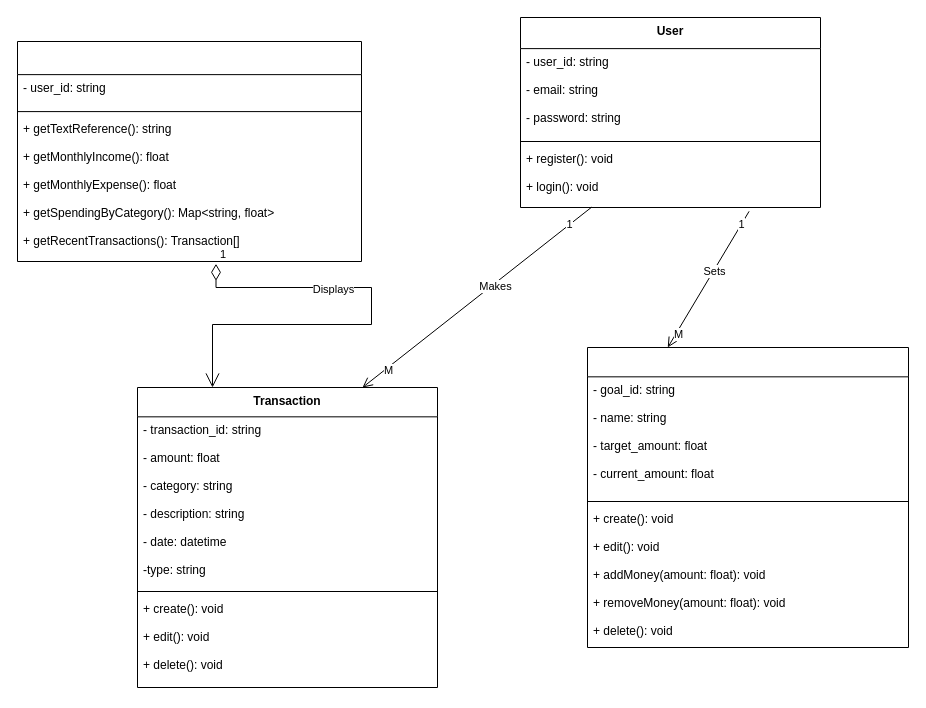
The diagram is 926 pixels wide and 708 high, and some of its shapes have lost their labels. Each missing label, with the box of its shape:
Dashboard: (16, 40, 362, 262)
SavingsGoal: (586, 346, 908, 648)
